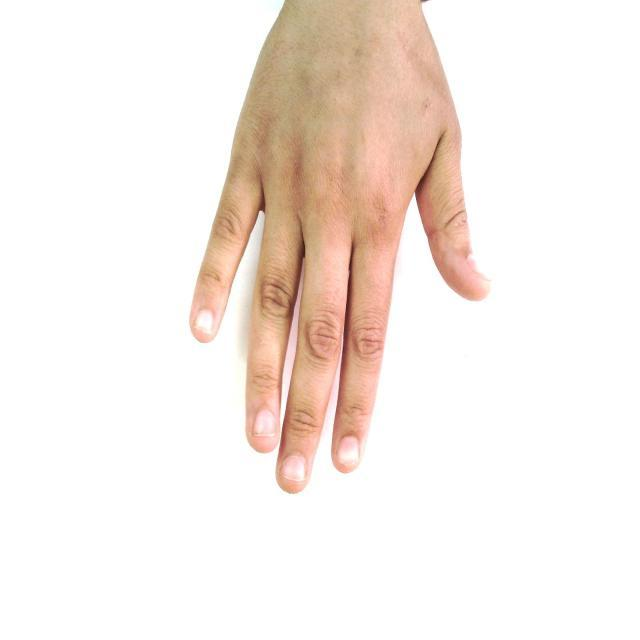Fingernail: (338, 436, 359, 468), (283, 455, 306, 482), (469, 257, 491, 283), (255, 410, 275, 435), (196, 310, 214, 333)
